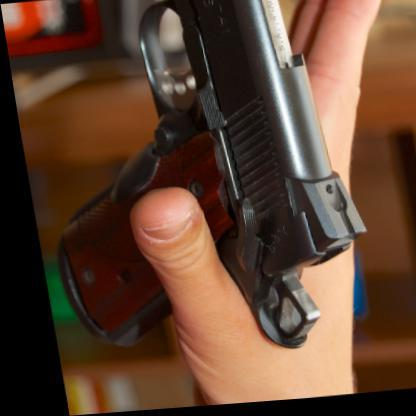pistol: (20, 0, 376, 365)
